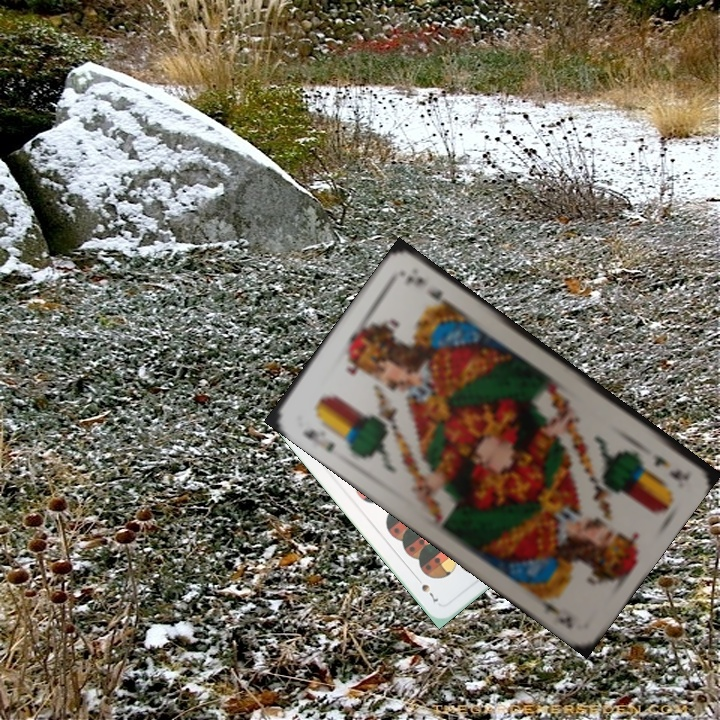EK: (648, 452, 685, 484), (299, 425, 338, 455)
